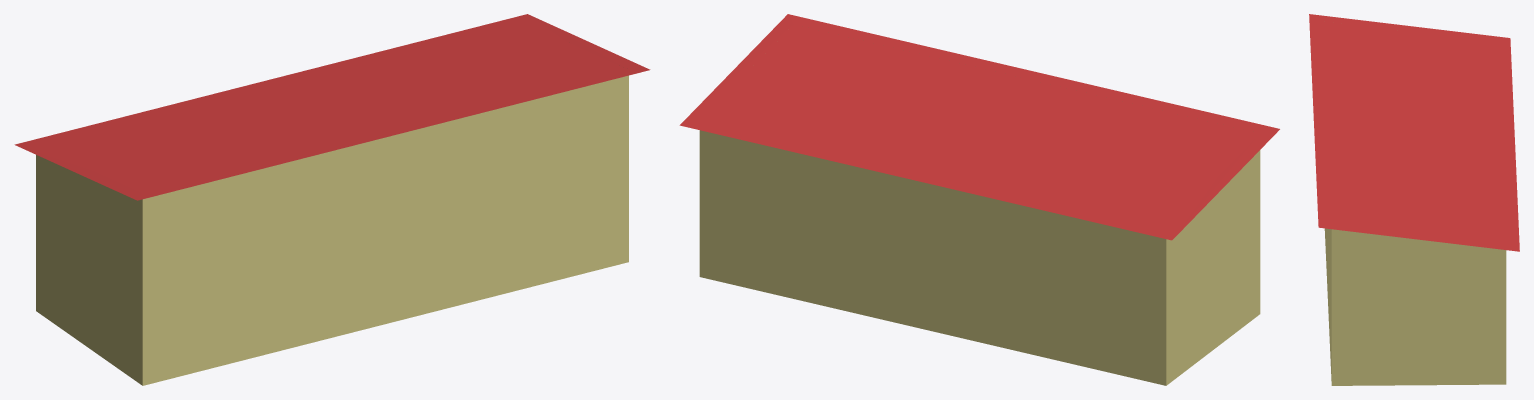
3 renders of one model, left to right at view 1: azimuth 30°, elevation 25°; view 2: azimuth 150°, elevation 25°; view 3: azimuth 270°, elevation 25°, orthographic. The views are drawn at different scales.
Bounding box in the file's own units: 19.03 × 7.87 × 6.76.
